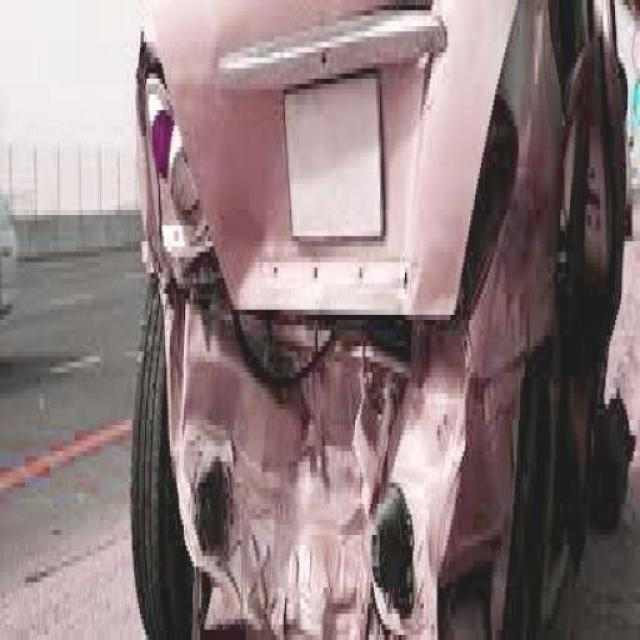car damage: (134, 10, 625, 640)
